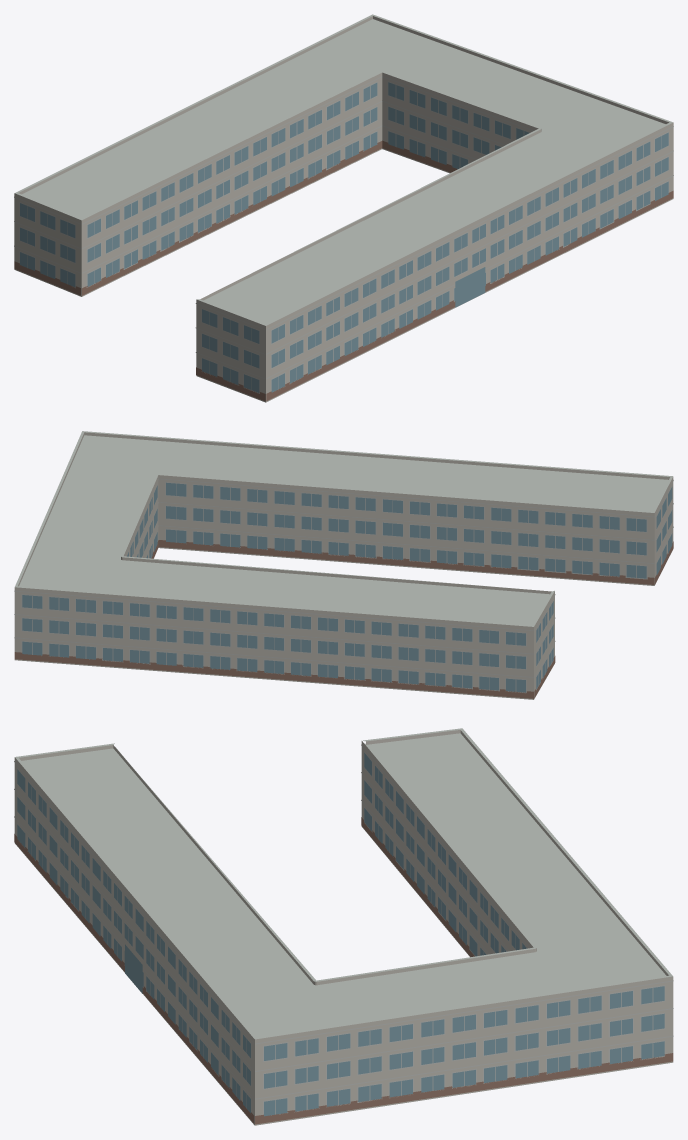
The model's file is public-59e6966b-0feb-4815-add4-6a4dd1a014d7.glb.
3 views of the same model, one above another, from view 1: azimuth 30°, elevation 25°; view 2: azimuth 150°, elevation 25°; view 3: azimuth 270°, elevation 25° (orthographic). The views are drawn at different scales.
Parts seen in each view (by area): view 1: public-59e6966b-0feb-4815-add4-6a4dd1a014d7; view 2: public-59e6966b-0feb-4815-add4-6a4dd1a014d7; view 3: public-59e6966b-0feb-4815-add4-6a4dd1a014d7.
Boxes of the visible parts, x1,y1,x2,y2 form: public-59e6966b-0feb-4815-add4-6a4dd1a014d7: (14,14,673,402); public-59e6966b-0feb-4815-add4-6a4dd1a014d7: (14,431,673,699); public-59e6966b-0feb-4815-add4-6a4dd1a014d7: (14,728,673,1125).
Bounding box in the file's own units: 70.94 × 9.15 × 63.45.
